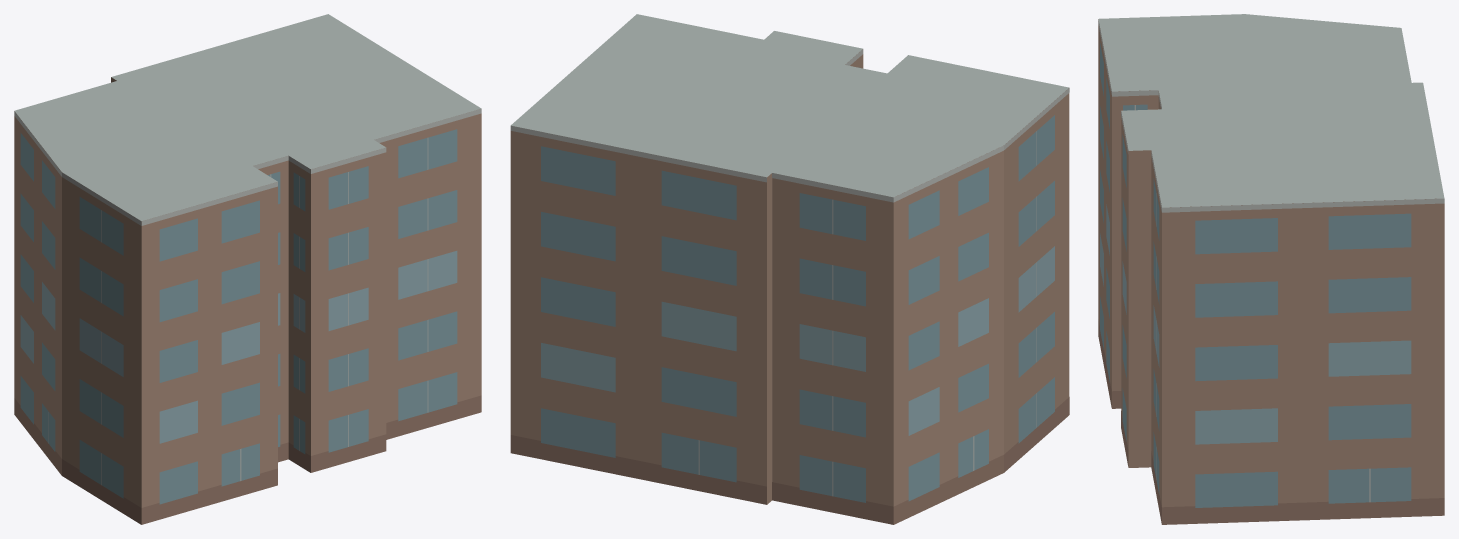
File: survey-upis-32669661.glb
3 renders of one model, left to right at view 1: azimuth 30°, elevation 25°; view 2: azimuth 150°, elevation 25°; view 3: azimuth 270°, elevation 25°, orthographic. The views are drawn at different scales.
Parts seen in each view (by area): view 1: survey-upis-32669661.tmp; view 2: survey-upis-32669661.tmp; view 3: survey-upis-32669661.tmp.
Boxes of the visible parts, x1,y1,x2,y2 form: survey-upis-32669661.tmp: (14, 14, 481, 524); survey-upis-32669661.tmp: (510, 14, 1069, 524); survey-upis-32669661.tmp: (1098, 14, 1444, 524).
Size of the model in its own units: 20.18 by 15.4 by 15.24.
